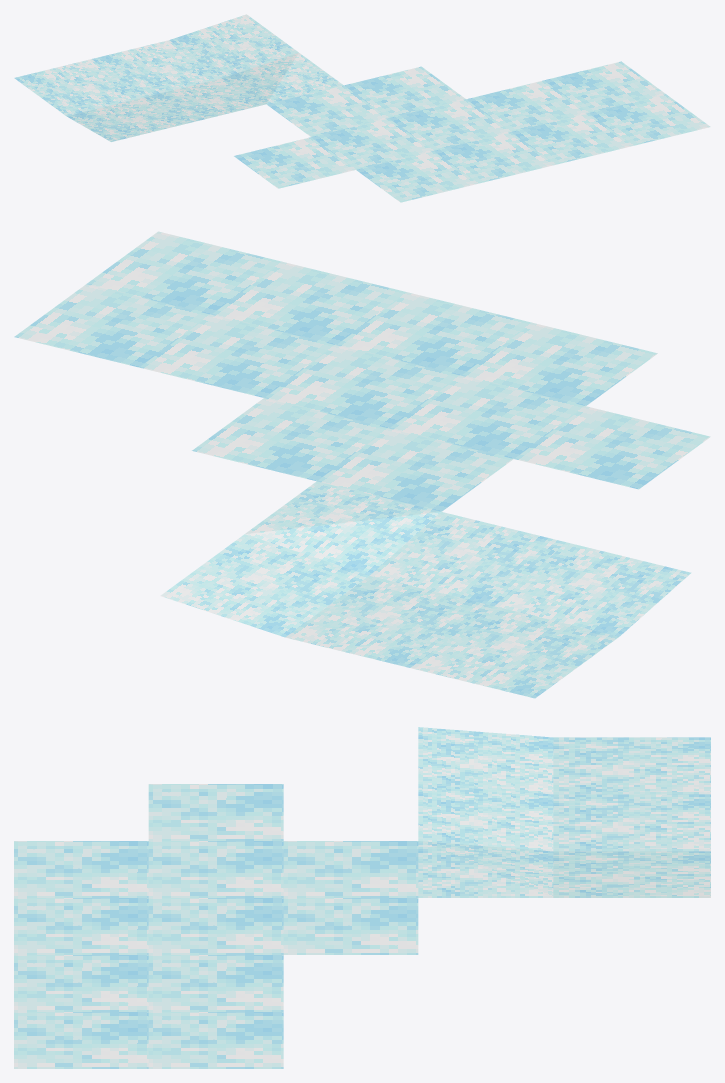
The picture shows the model from 3 angles, top to bottom: view 1: azimuth 30°, elevation 25°; view 2: azimuth 150°, elevation 25°; view 3: azimuth 270°, elevation 25°; orthographic projection. The views are drawn at different scales.
Visible parts, largest first — view 1: mesh00; view 2: mesh00; view 3: mesh00.
Part boxes in pixels (bbox=[...]): mesh00: bbox=[14, 14, 710, 202]; mesh00: bbox=[14, 231, 710, 698]; mesh00: bbox=[14, 727, 710, 1068].
Bounding box in the file's own units: 61377 × 870 × 52886.
